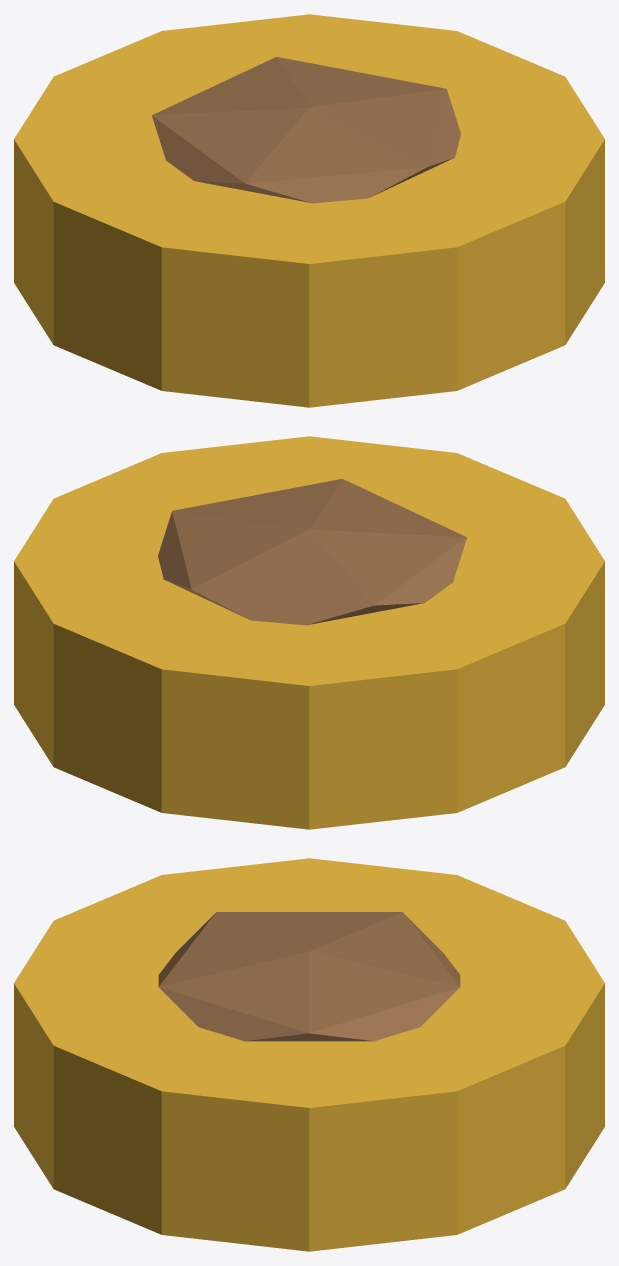
Rendered from cerbero_cabeca.glb.
3 renders of one model, top to bottom at view 1: azimuth 30°, elevation 25°; view 2: azimuth 150°, elevation 25°; view 3: azimuth 270°, elevation 25°, orthographic.
Visible parts, largest first — view 1: cerbero_cabeca; view 2: cerbero_cabeca; view 3: cerbero_cabeca.
Boxes of the visible parts, x1,y1,x2,y2 form: cerbero_cabeca: [14, 14, 604, 407]; cerbero_cabeca: [14, 436, 604, 829]; cerbero_cabeca: [14, 858, 604, 1251].
Bounding box in the file's own units: 1.5 × 0.6 × 1.5.
